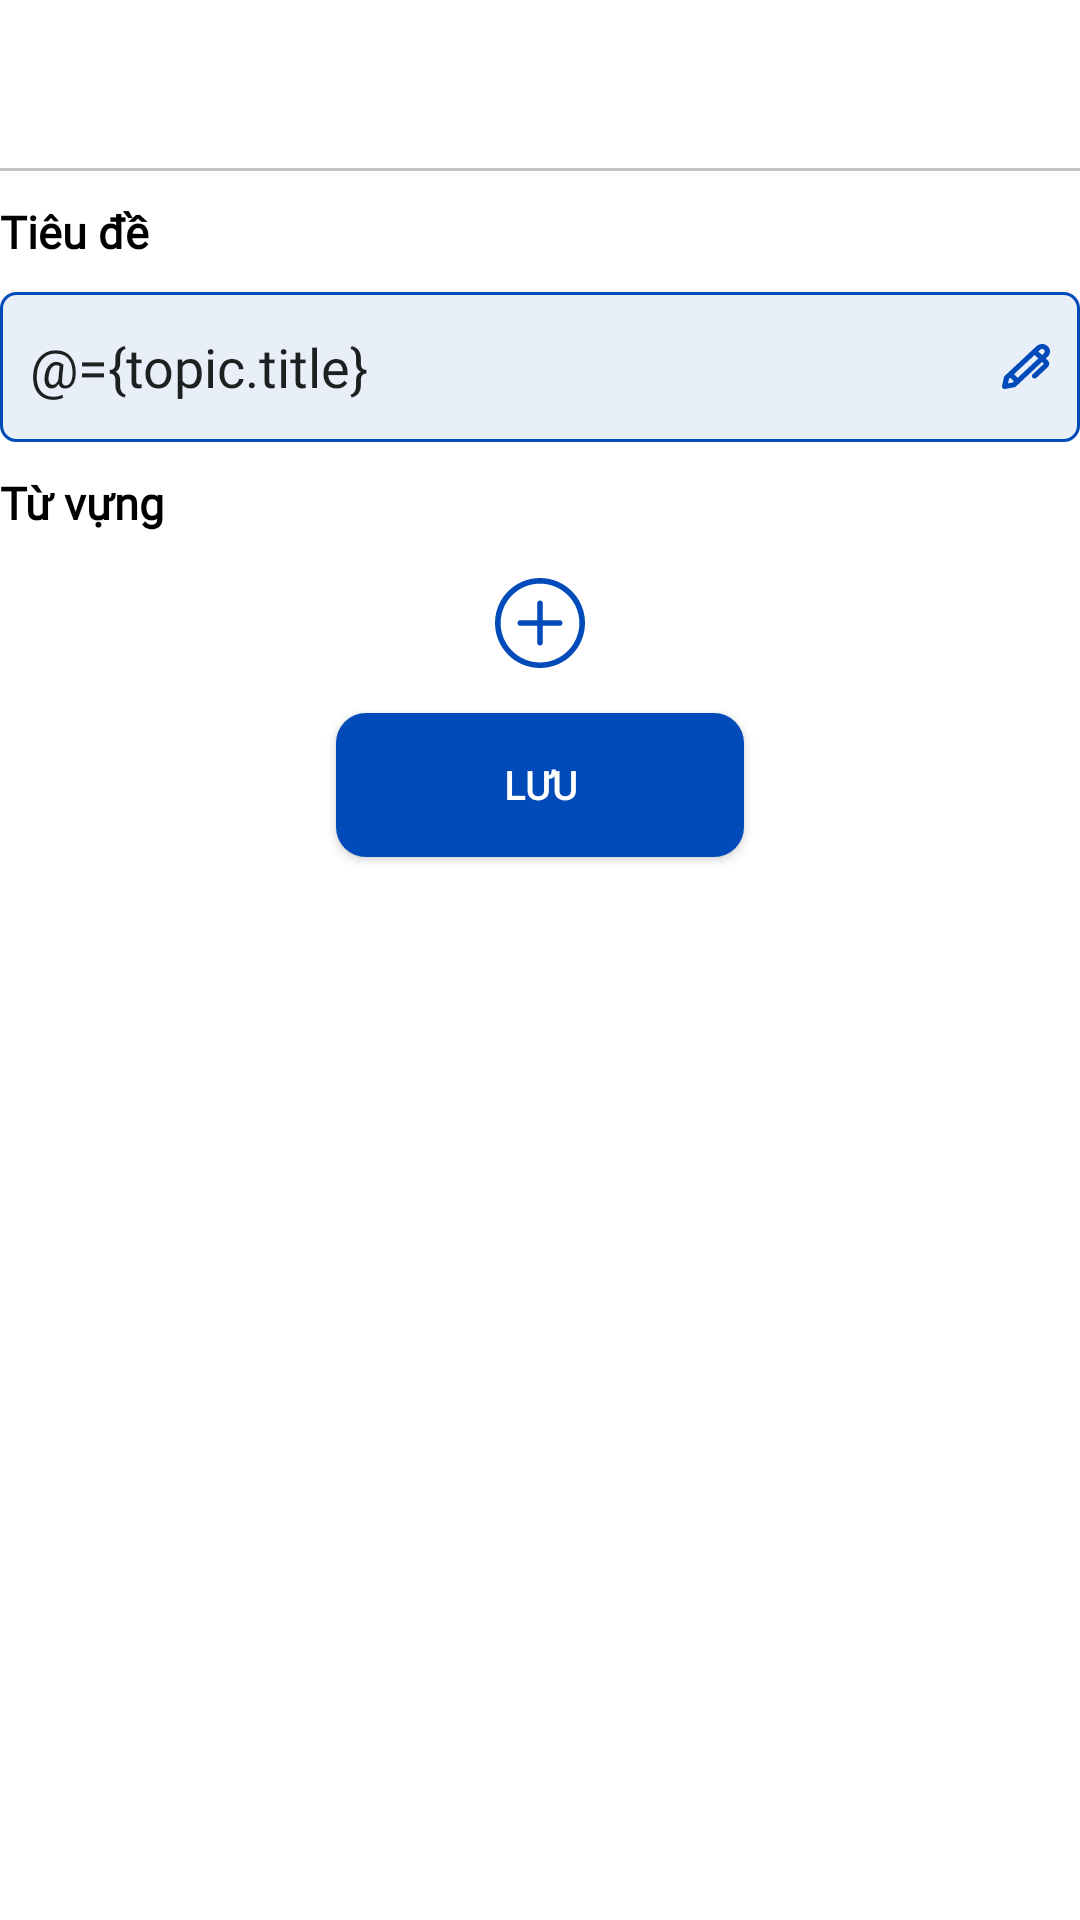

Screen size 1080w x 1920h. Icon name, then its center in pixels as [x,y]:
add: [540,623]
